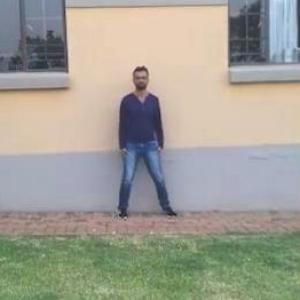follow: (116, 63, 162, 221)
